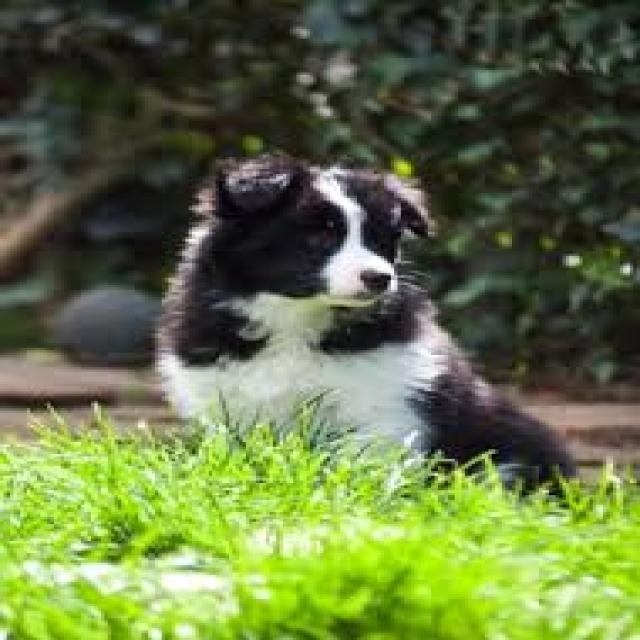ALASKAN_MALAMUTE: (128, 138, 600, 535)
